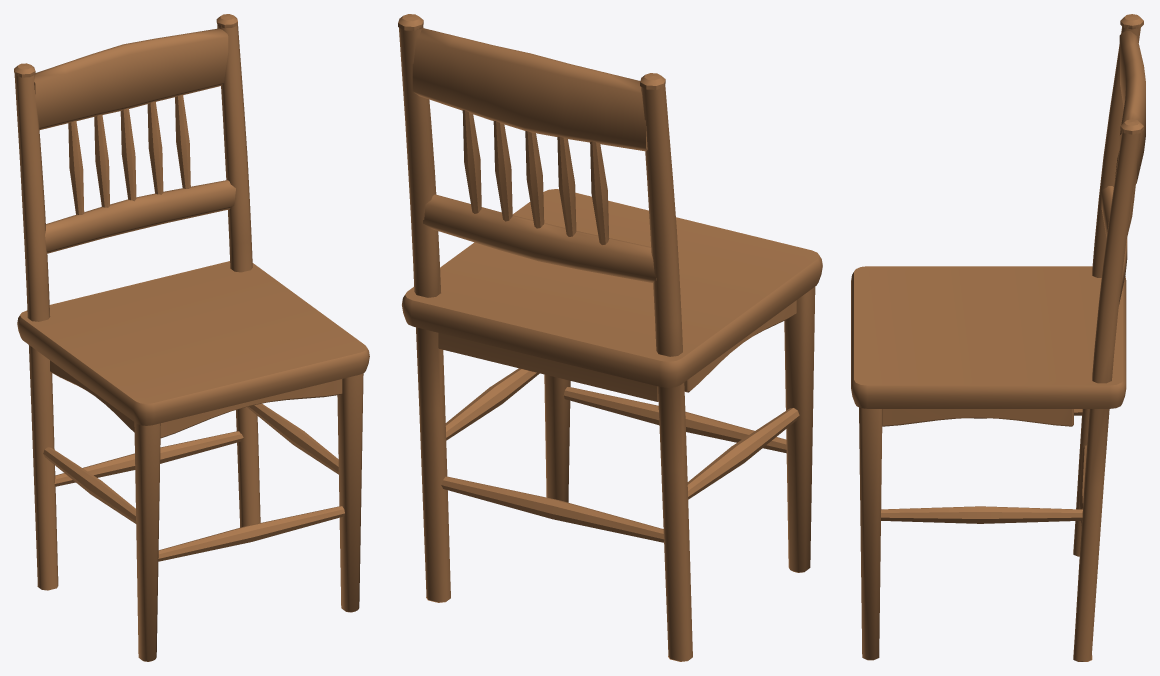
File: chairWood.glb
The picture shows the model from 3 angles, left to right: view 1: azimuth 30°, elevation 25°; view 2: azimuth 150°, elevation 25°; view 3: azimuth 270°, elevation 25°; orthographic projection. The views are drawn at different scales.
Visible parts, largest first — view 1: chairWood; view 2: chairWood; view 3: chairWood.
Boxes of the visible parts, left/top/right/bottom form: chairWood: left=14, top=14, right=369, bottom=661; chairWood: left=398, top=14, right=822, bottom=661; chairWood: left=851, top=14, right=1145, bottom=661.
Size of the model in its own units: 0.44 by 0.902 by 0.4499.
